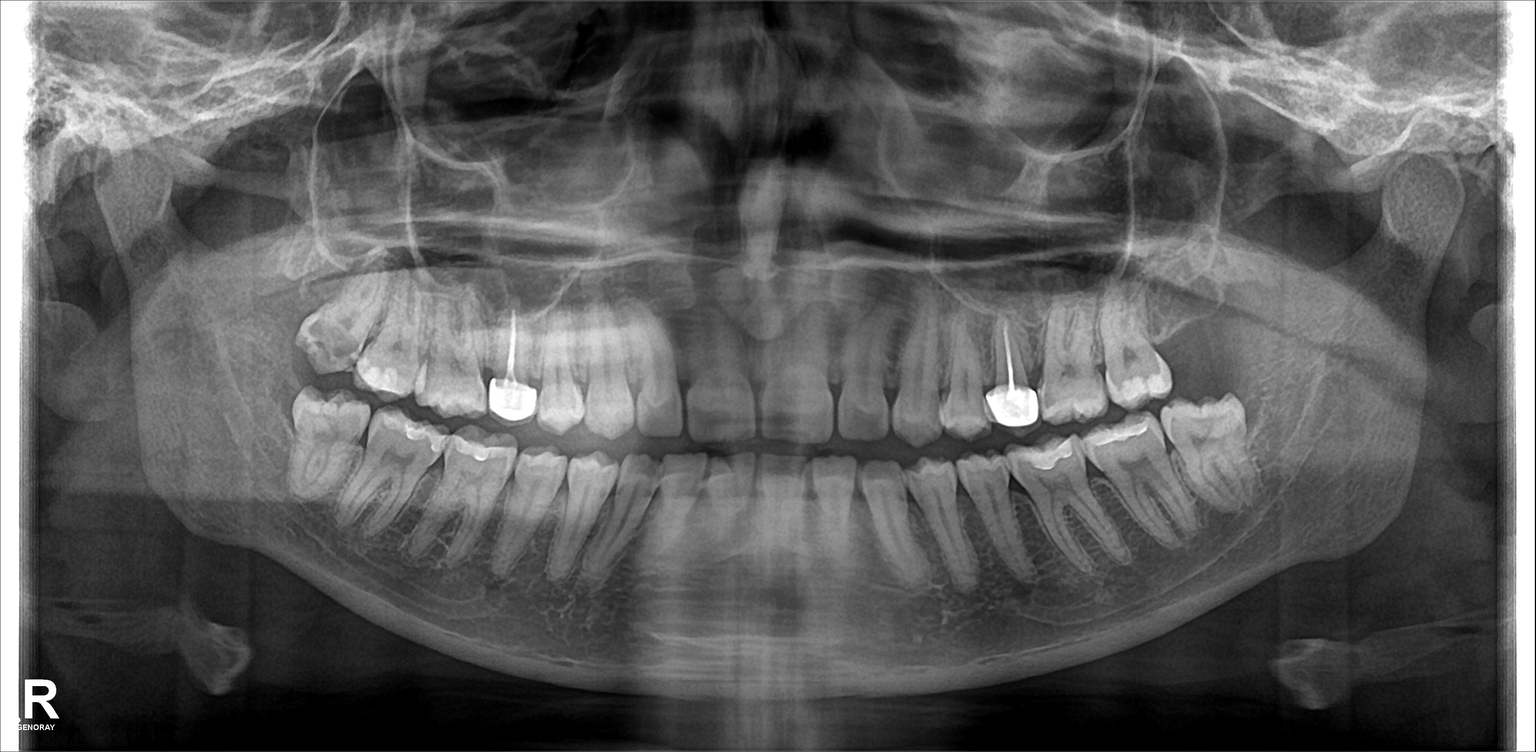Dental Caries: (305, 322, 358, 359)
Endodontically Treated Tooth: (492, 300, 533, 425), (987, 324, 1035, 425)
Missing Tooth: (1164, 292, 1217, 390), (1218, 277, 1262, 384)
